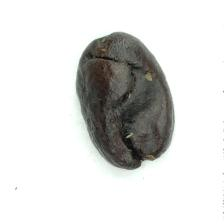NG: (84, 48, 163, 160)
